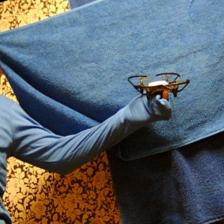drone: (128, 72, 193, 100)
